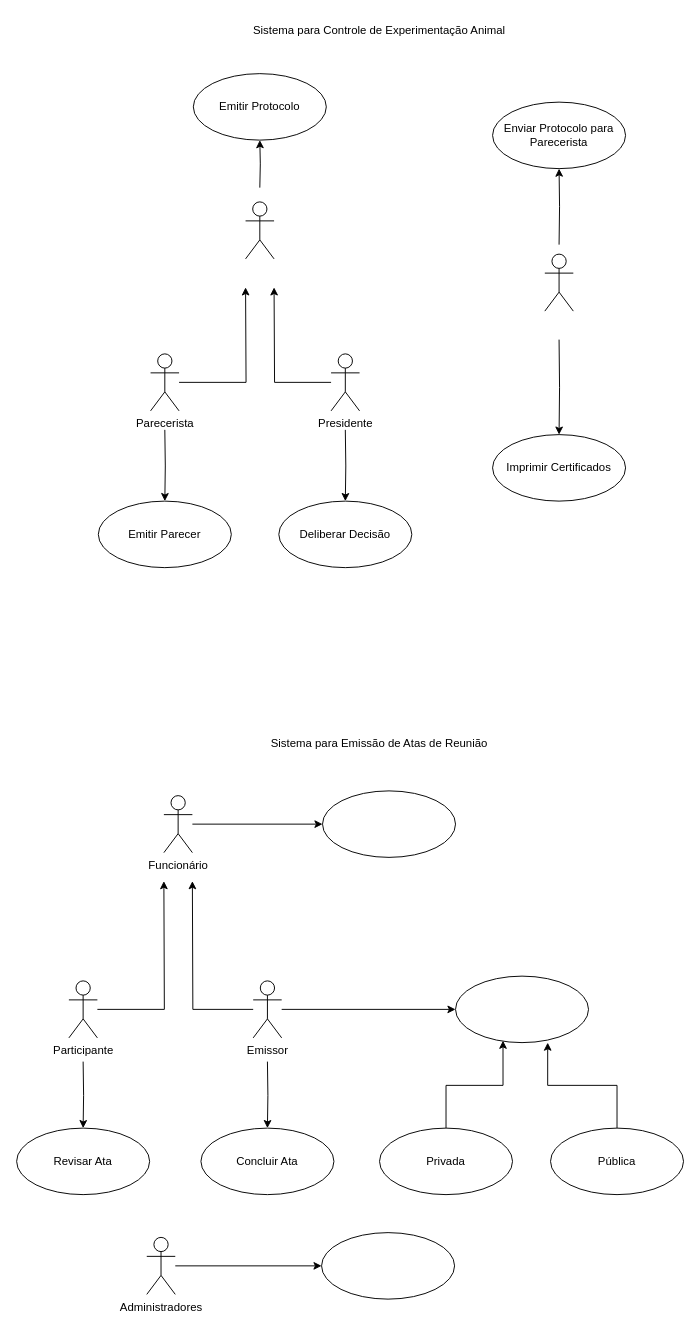
Image size: 700x1330. Some labels were removed from this diagram. Each missing label, with the centre of its shape:
Consultar Ata: (x=389, y=823)
Docente: (x=259, y=230)
Emitir Ata: (x=522, y=1009)
Gerar Relatórios: (x=388, y=1265)
Secretária: (x=558, y=282)
